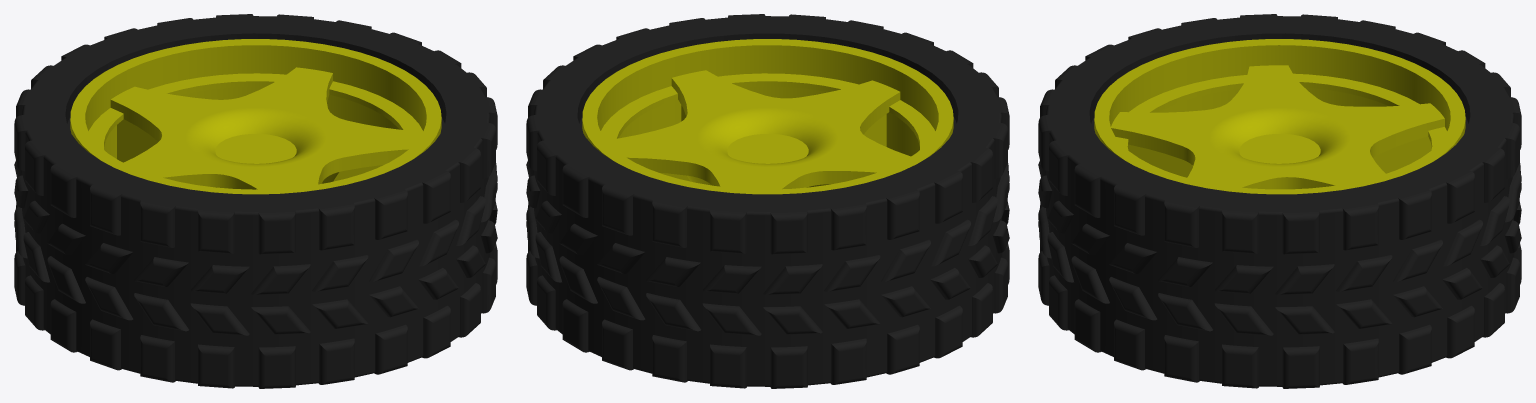
File: car_wheel_left.obj
3 views of the same model, side by side, from view 1: azimuth 30°, elevation 25°; view 2: azimuth 150°, elevation 25°; view 3: azimuth 270°, elevation 25° (orthographic).
Size of the model in its own units: 0.0651 by 0.0305 by 0.0651.
